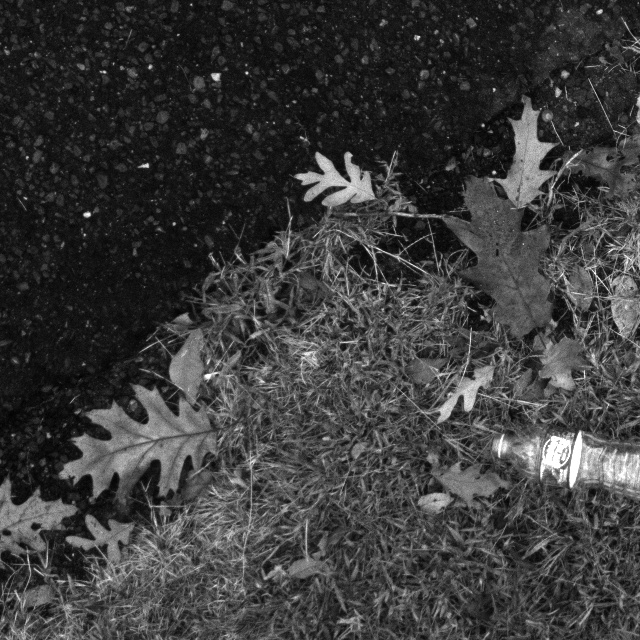bottle: (476, 418, 640, 523)
